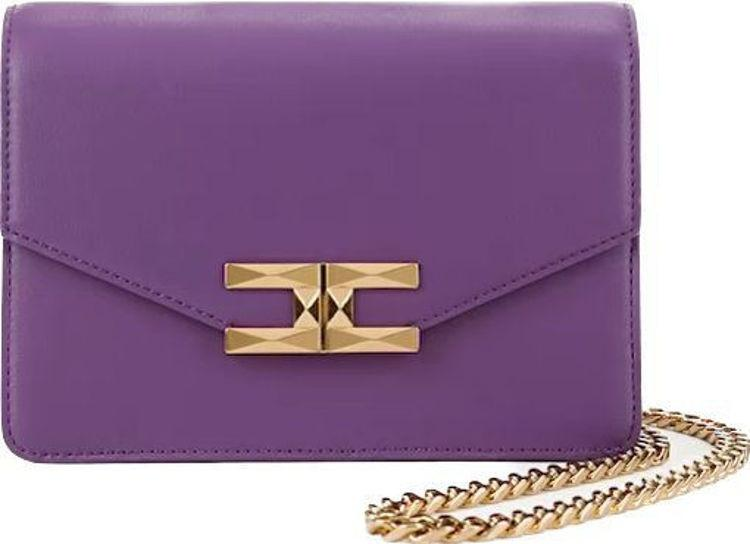ELISABETTA-FRANCHI: (214, 247, 442, 373)
